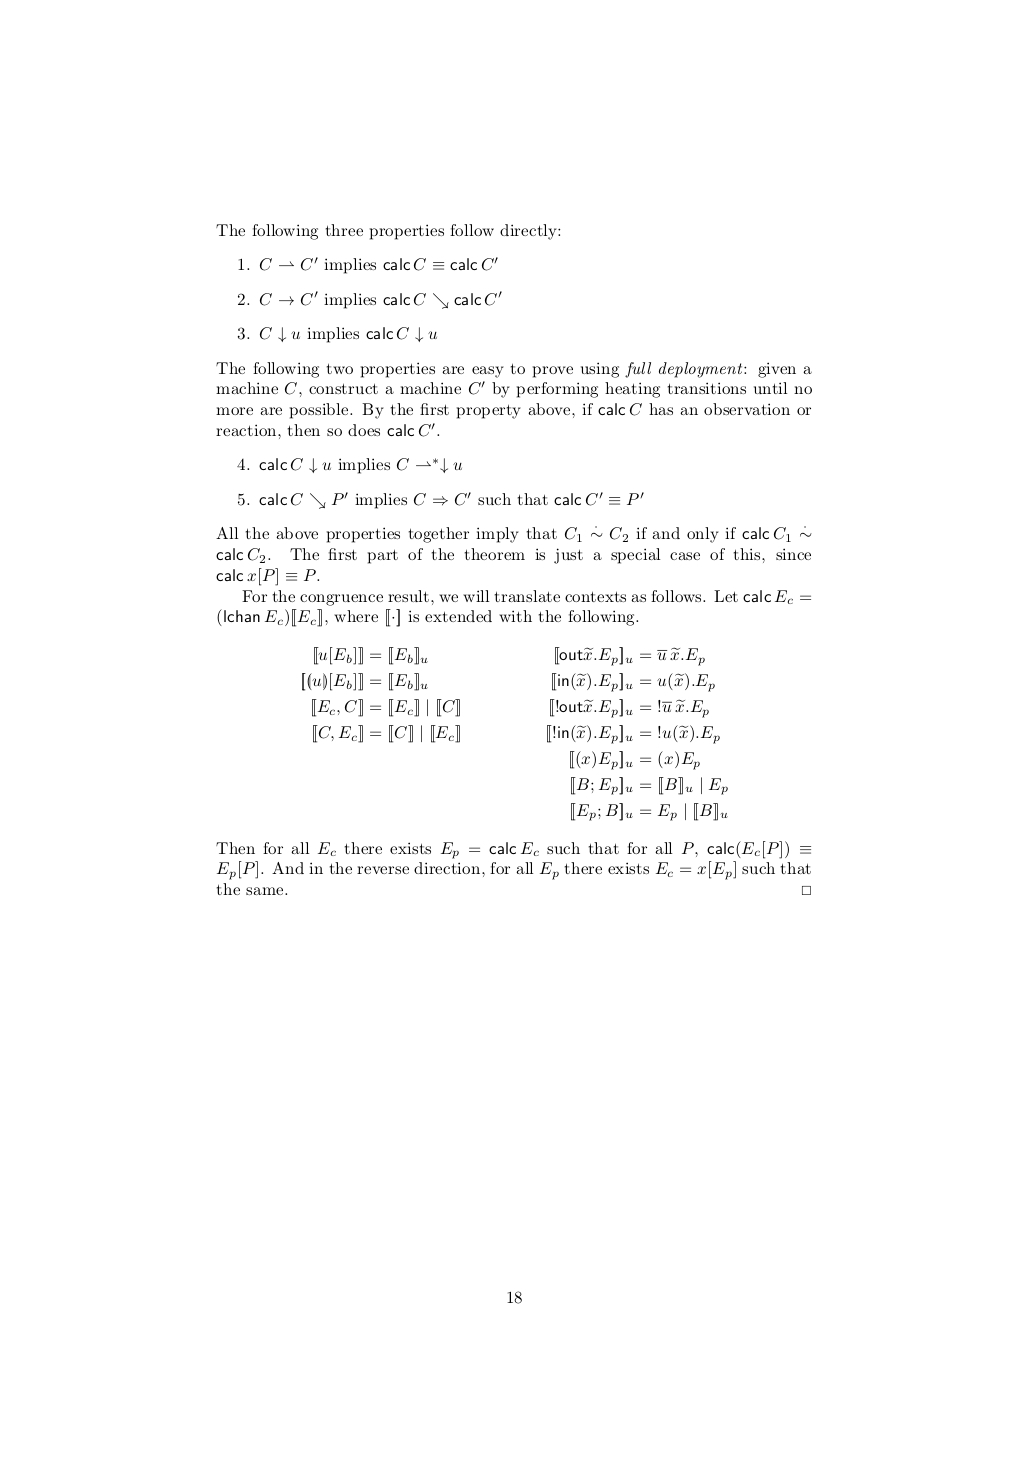formula: (547, 724, 719, 744), (552, 671, 714, 692), (550, 698, 709, 718), (555, 645, 704, 666), (571, 775, 728, 795), (571, 802, 728, 821), (312, 698, 459, 717), (314, 724, 459, 743), (570, 750, 698, 770), (302, 671, 427, 690), (314, 645, 427, 665)
